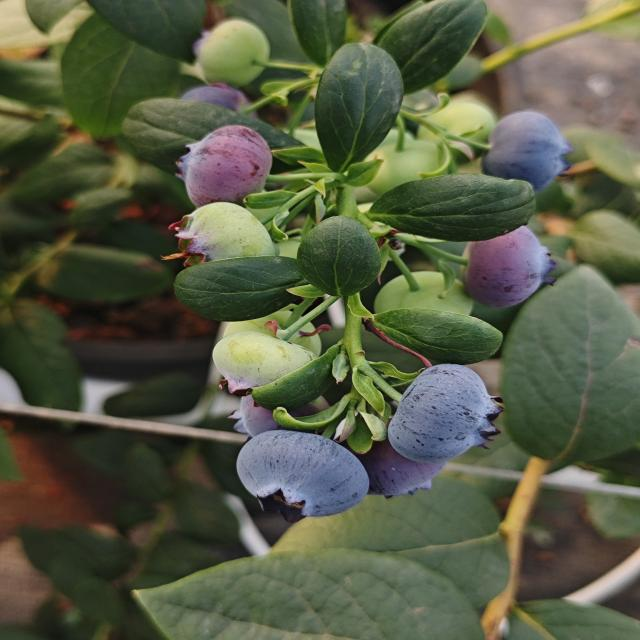ripe: (225, 424, 376, 523), (386, 356, 504, 469), (453, 215, 562, 310), (343, 421, 454, 508), (169, 132, 289, 212), (475, 107, 577, 200), (215, 374, 330, 439), (166, 76, 260, 126)
